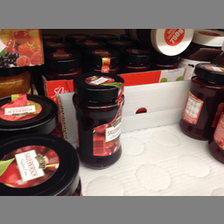jam: (73, 72, 126, 169), (1, 133, 82, 196), (180, 63, 224, 143)
